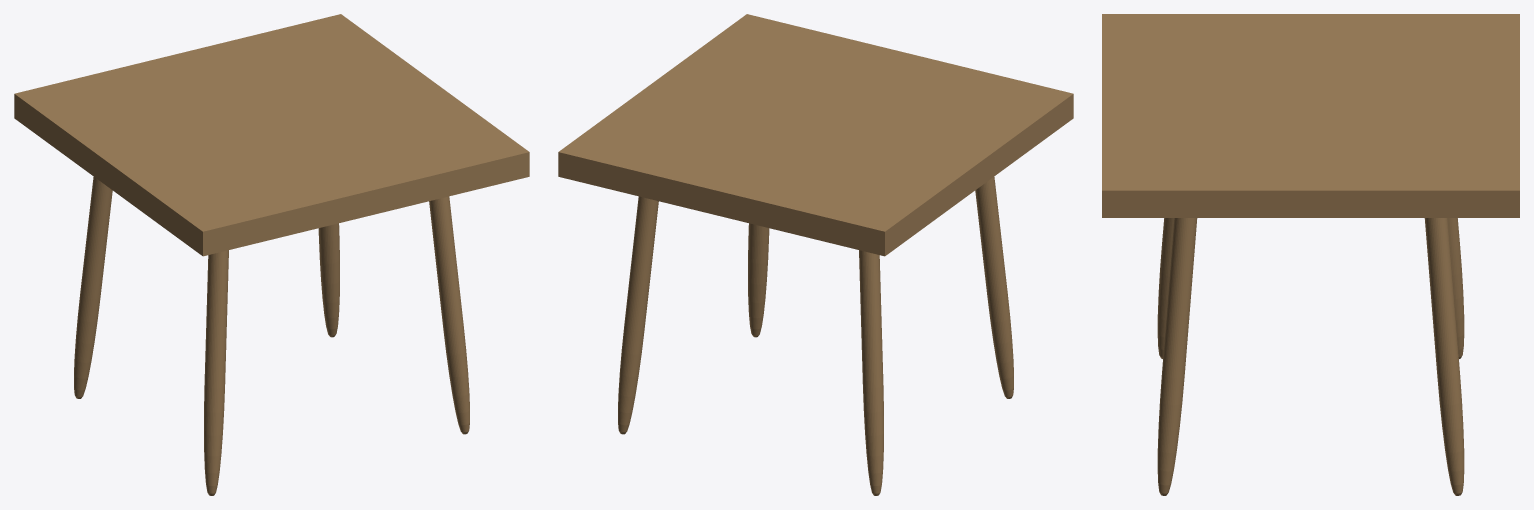
Rendered from squareTable.fbx.
3 renders of one model, left to right at view 1: azimuth 30°, elevation 25°; view 2: azimuth 150°, elevation 25°; view 3: azimuth 270°, elevation 25°, orthographic. The views are drawn at different scales.
Parts seen in each view (by area): view 1: squareTable; view 2: squareTable; view 3: squareTable.
Boxes of the visible parts, <box> form: squareTable: <box>14,14,529,495</box>; squareTable: <box>558,14,1073,495</box>; squareTable: <box>1102,14,1519,495</box>.
Bounding box in the file's own units: 70 × 60 × 70.
